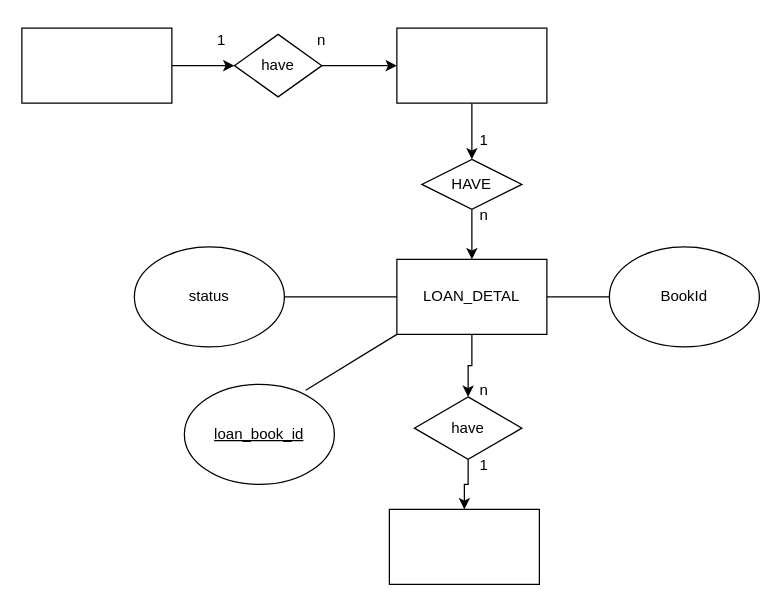
Some shapes in this 781 by 606 pixel diagram are drawn without their labels. The shapes that lost their labels are listed below. From the top down, each one's centre as x and y in pixels, then its label:
At pixel 96 65: "STUDENTS".
At pixel 471 65: "LOAN_CARDS".
At pixel 463 546: "BOOKS".
